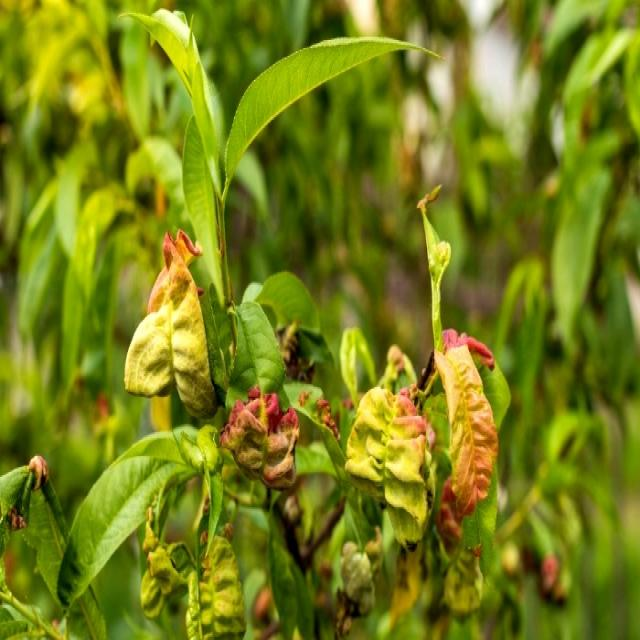peach_leaf_curl: (432, 332, 499, 518), (218, 382, 300, 492)
